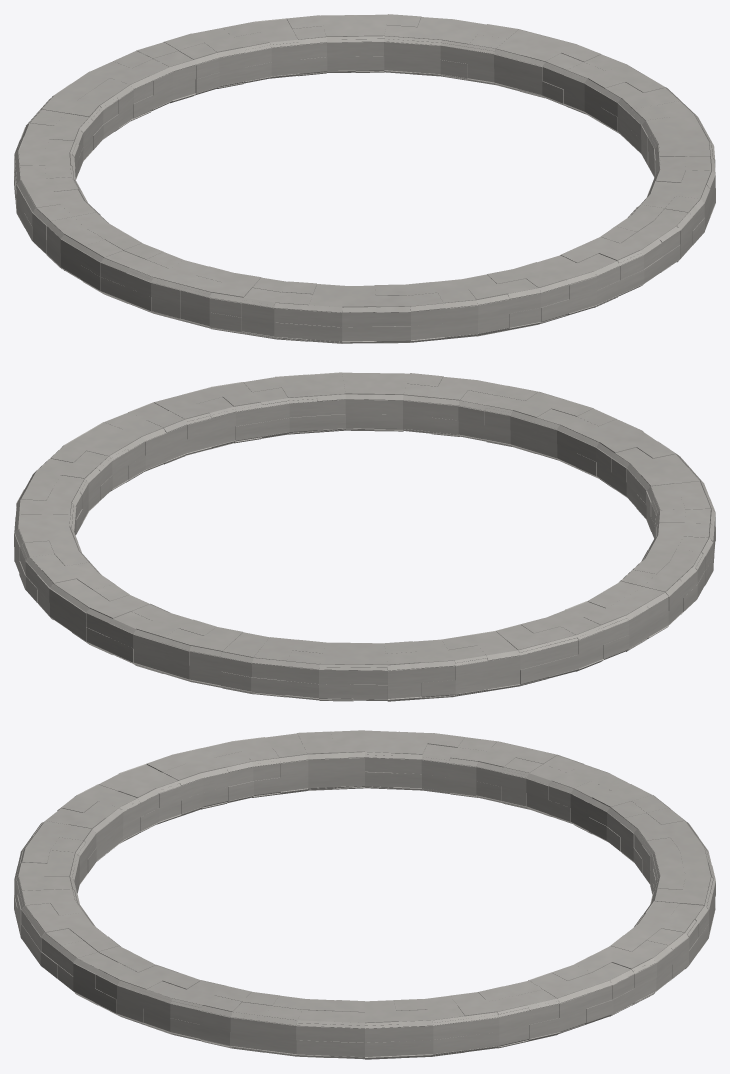
The model's file is 중간받침.glb.
3 renders of one model, top to bottom at view 1: azimuth 30°, elevation 25°; view 2: azimuth 150°, elevation 25°; view 3: azimuth 270°, elevation 25°, orthographic.
Parts seen in each view (by area): view 1: 중간받침_구움; view 2: 중간받침_구움; view 3: 중간받침_구움.
Boxes of the visible parts, x1,y1,x2,y2 form: 중간받침_구움: (14,14,715,343); 중간받침_구움: (14,372,715,701); 중간받침_구움: (14,730,715,1059).
Size of the model in its own units: 9.02 by 0.5296 by 9.03.
Materials: 1 (1 with a texture image).
